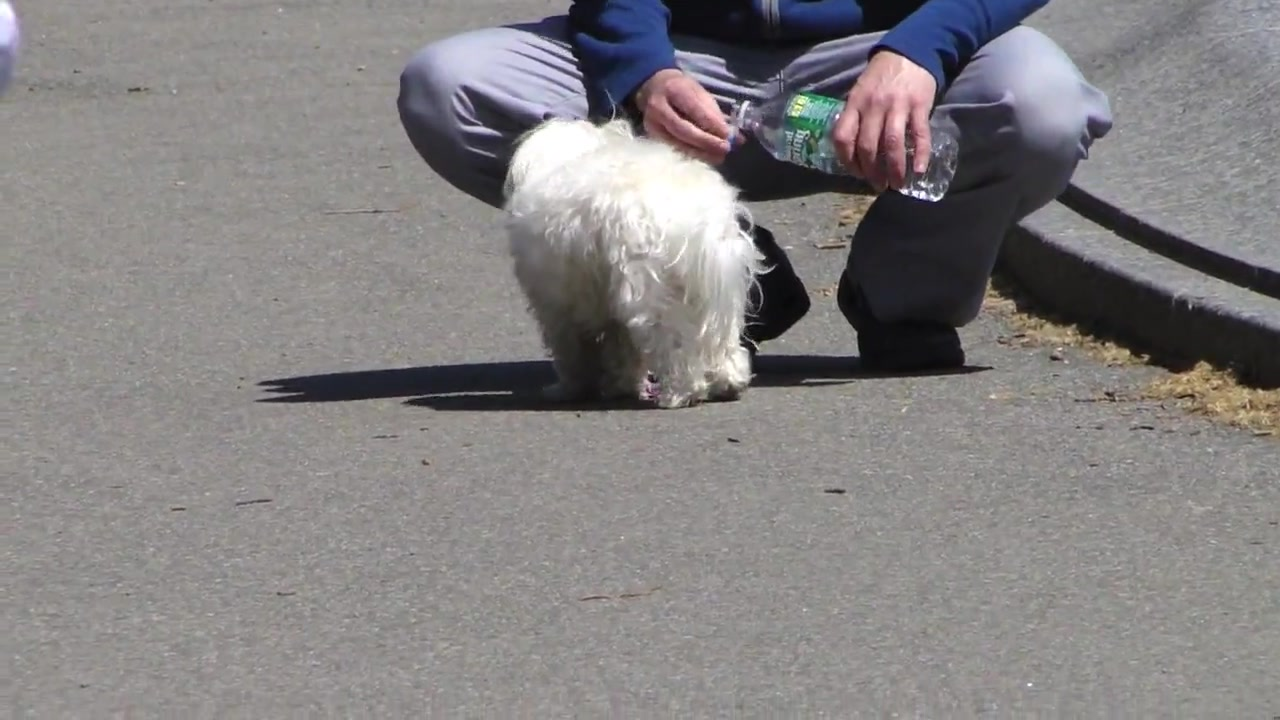dog: (499, 111, 781, 414)
